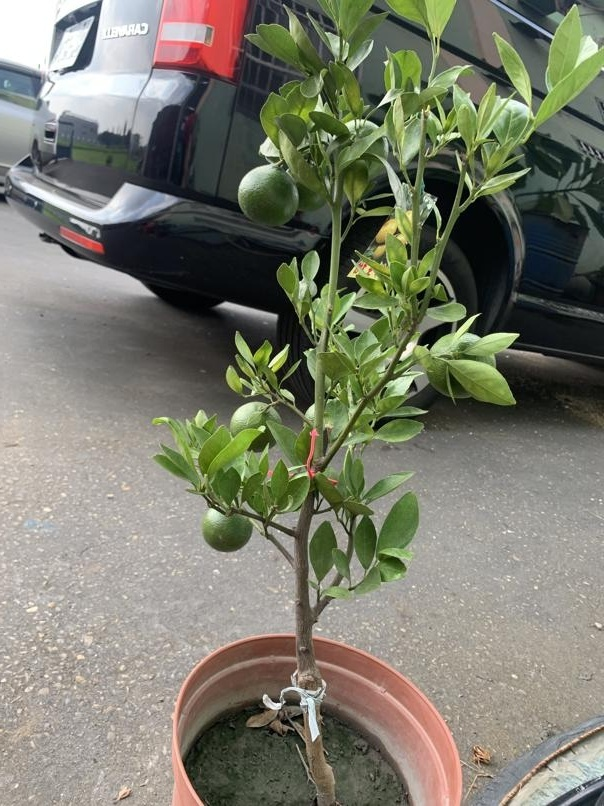Tangerine: (237, 163, 299, 229), (199, 498, 255, 554)
